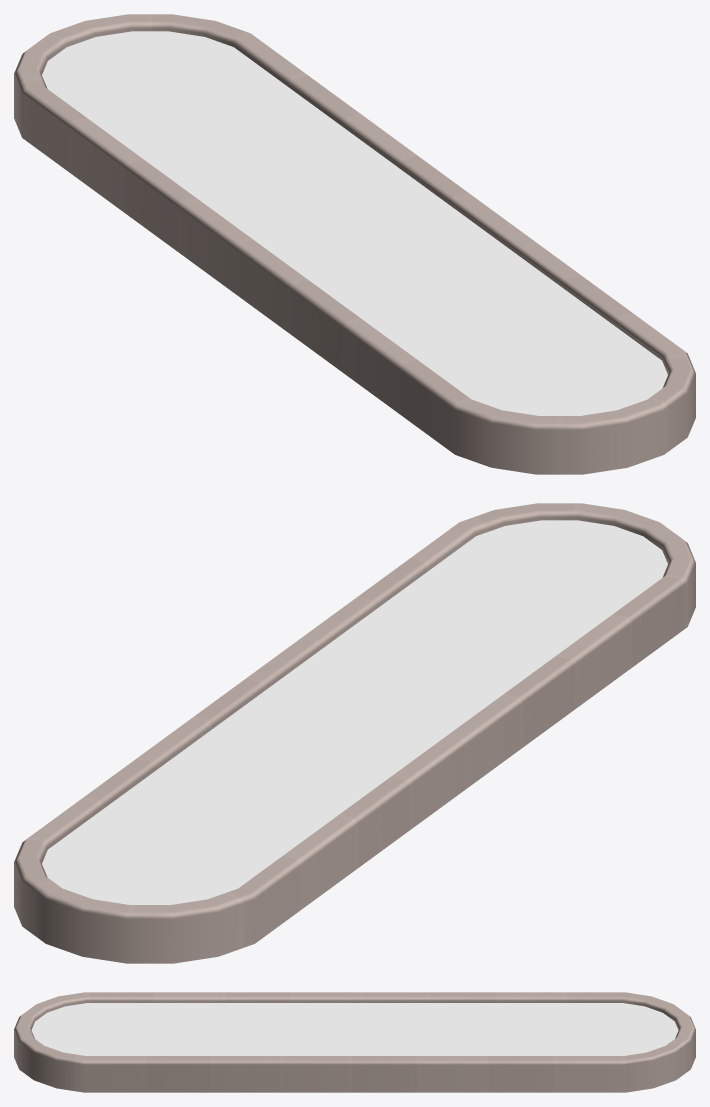
File: GardenBed_LongRounded_8m.fbx
3 renders of one model, top to bottom at view 1: azimuth 30°, elevation 25°; view 2: azimuth 150°, elevation 25°; view 3: azimuth 270°, elevation 25°, orthographic. The views are drawn at different scales.
Visible parts, largest first — view 1: GardenBed_LongRounded_8m; view 2: GardenBed_LongRounded_8m; view 3: GardenBed_LongRounded_8m.
Boxes of the visible parts, left/top/right/bottom form: GardenBed_LongRounded_8m: left=14, top=14, right=695, bottom=474; GardenBed_LongRounded_8m: left=14, top=503, right=695, bottom=963; GardenBed_LongRounded_8m: left=14, top=992, right=695, bottom=1092.
Bounding box in the file's own units: 197 × 40 × 800.
